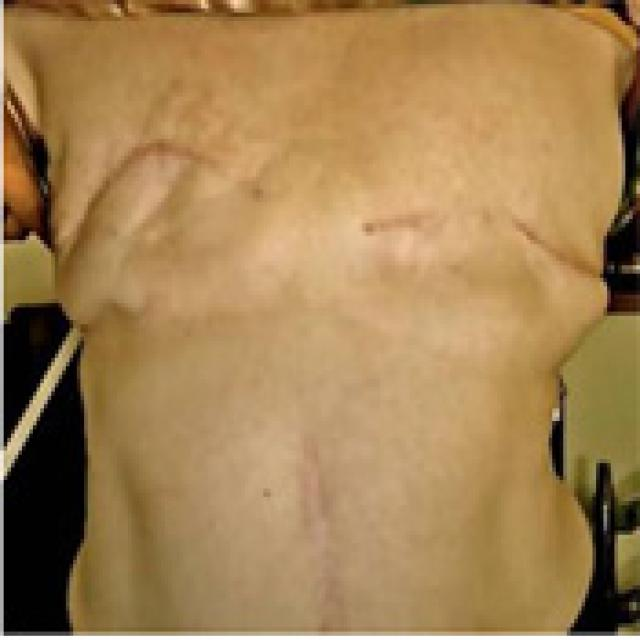Seno herido: (329, 95, 632, 359), (42, 97, 317, 360)
